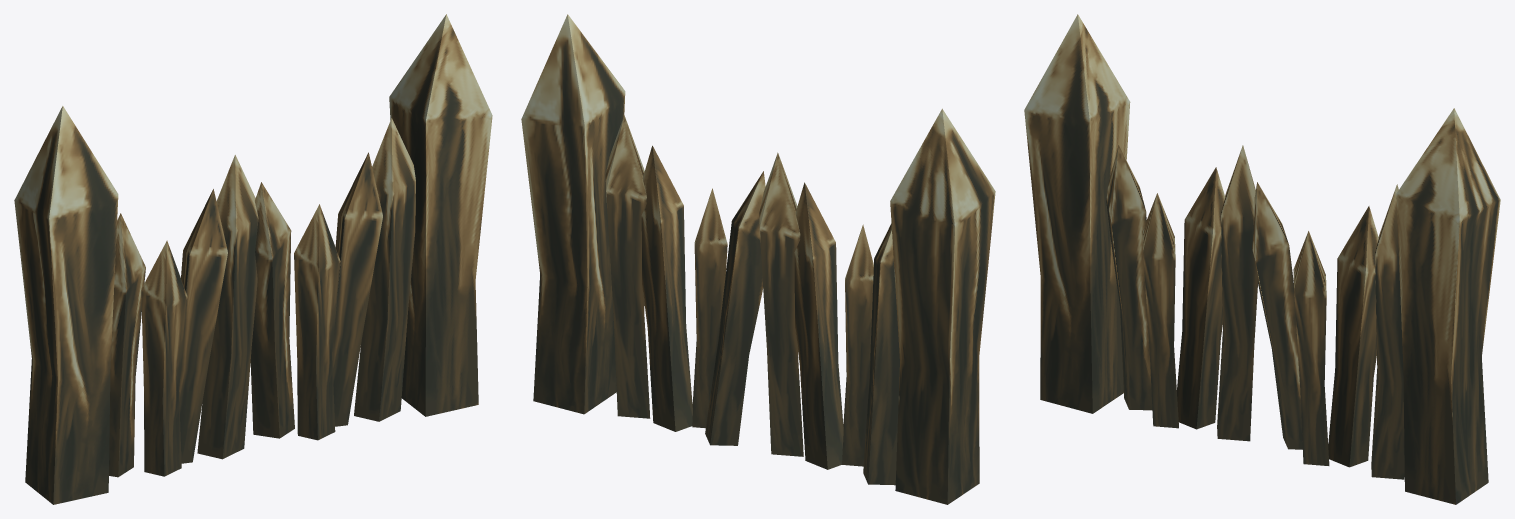
File: Orc_Village_Prop_03.FBX
3 views of the same model, side by side, from view 1: azimuth 30°, elevation 25°; view 2: azimuth 150°, elevation 25°; view 3: azimuth 330°, elevation 25° (orthographic).
Parts seen in each view (by area): view 1: Orc_Village_Prop_03; view 2: Orc_Village_Prop_03; view 3: Orc_Village_Prop_03.
Boxes of the visible parts, x1,y1,x2,y2 form: Orc_Village_Prop_03: [14, 14, 492, 504]; Orc_Village_Prop_03: [521, 14, 995, 504]; Orc_Village_Prop_03: [1024, 14, 1500, 504].
Bounding box in the file's own units: 568 × 470 × 90.19.
